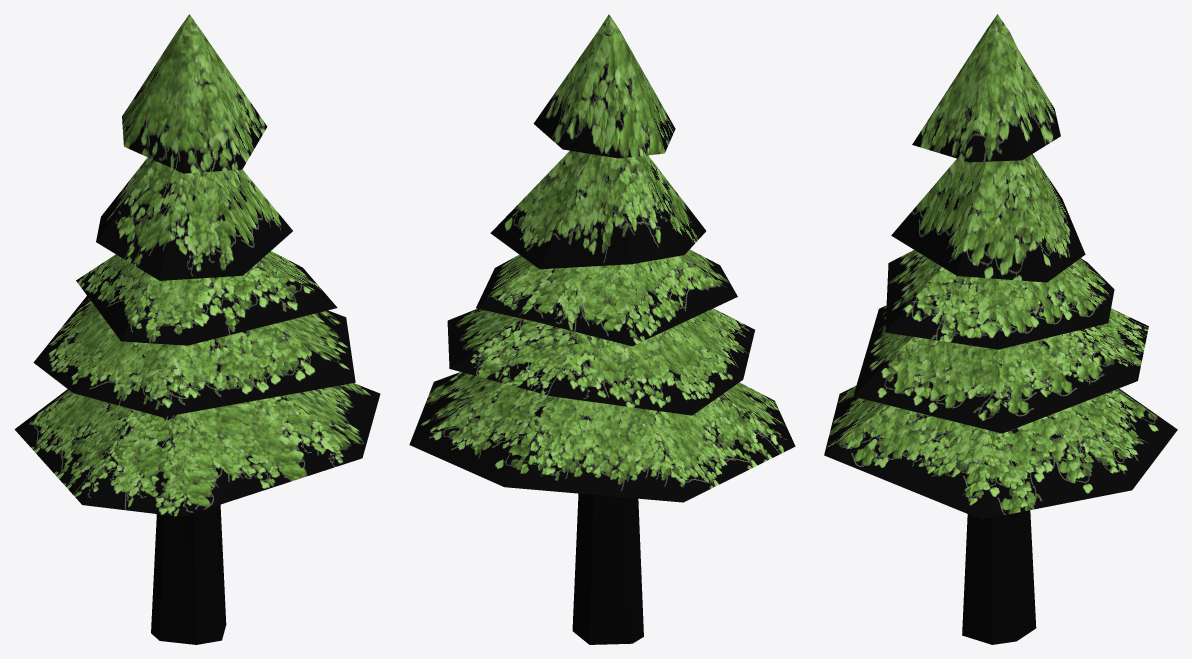
Rendered from sapin2.obj.
3 renders of one model, left to right at view 1: azimuth 30°, elevation 25°; view 2: azimuth 150°, elevation 25°; view 3: azimuth 270°, elevation 25°, orthographic.
Visible parts, largest first — view 1: Cylinder; view 2: Cylinder; view 3: Cylinder.
Boxes of the visible parts, <box> form: Cylinder: <box>14,14,380,644</box>; Cylinder: <box>409,14,795,644</box>; Cylinder: <box>824,14,1177,644</box>.
Size of the model in its own units: 2.21 by 3.94 by 2.06.
